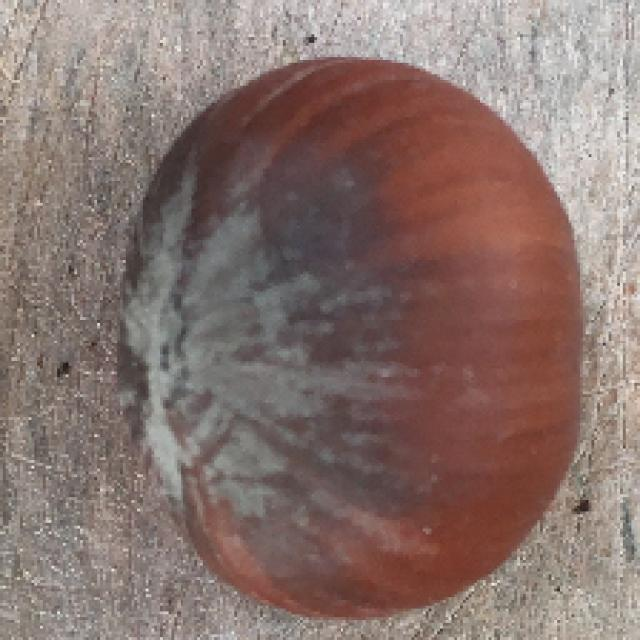qualityHazelnut: (119, 55, 579, 616)
